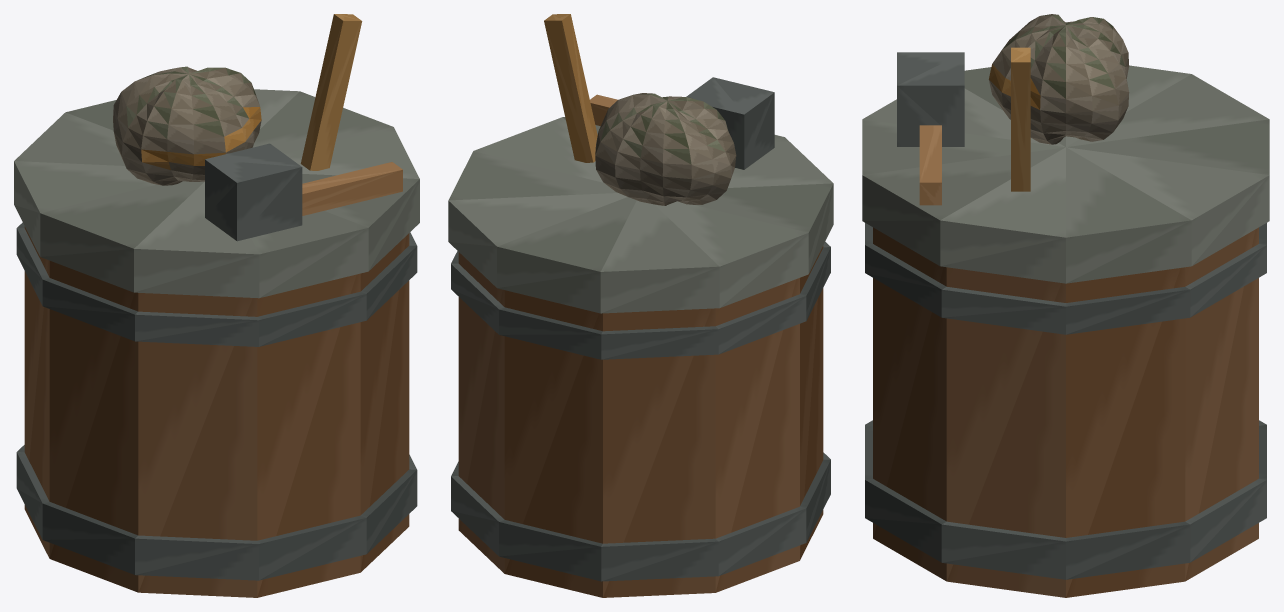
File: earth-fracturing-block.glb
The picture shows the model from 3 angles, left to right: view 1: azimuth 30°, elevation 25°; view 2: azimuth 150°, elevation 25°; view 3: azimuth 270°, elevation 25°; orthographic projection. The views are drawn at different scales.
Visible parts, largest first — view 1: fracturing-block; view 2: fracturing-block; view 3: fracturing-block.
Boxes of the visible parts, x1=… form: fracturing-block: x1=14, y1=14, x2=419, y2=597; fracturing-block: x1=448, y1=14, x2=833, y2=597; fracturing-block: x1=862, y1=14, x2=1269, y2=597.
Size of the model in its own units: 0.76 by 1.01 by 0.7228.
Materials: 1 (1 with a texture image).
